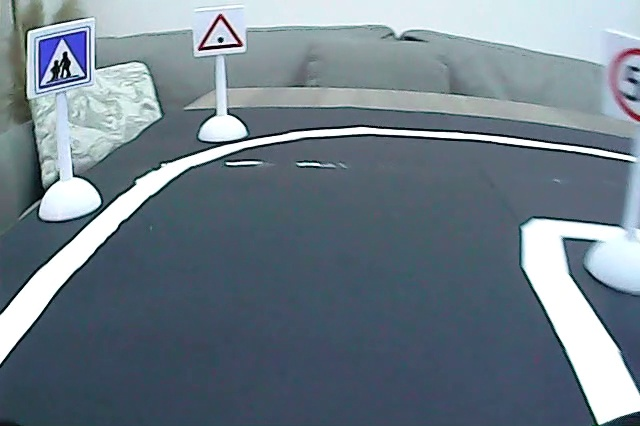green light: (194, 11, 246, 53)
school crossing: (32, 28, 92, 90)
